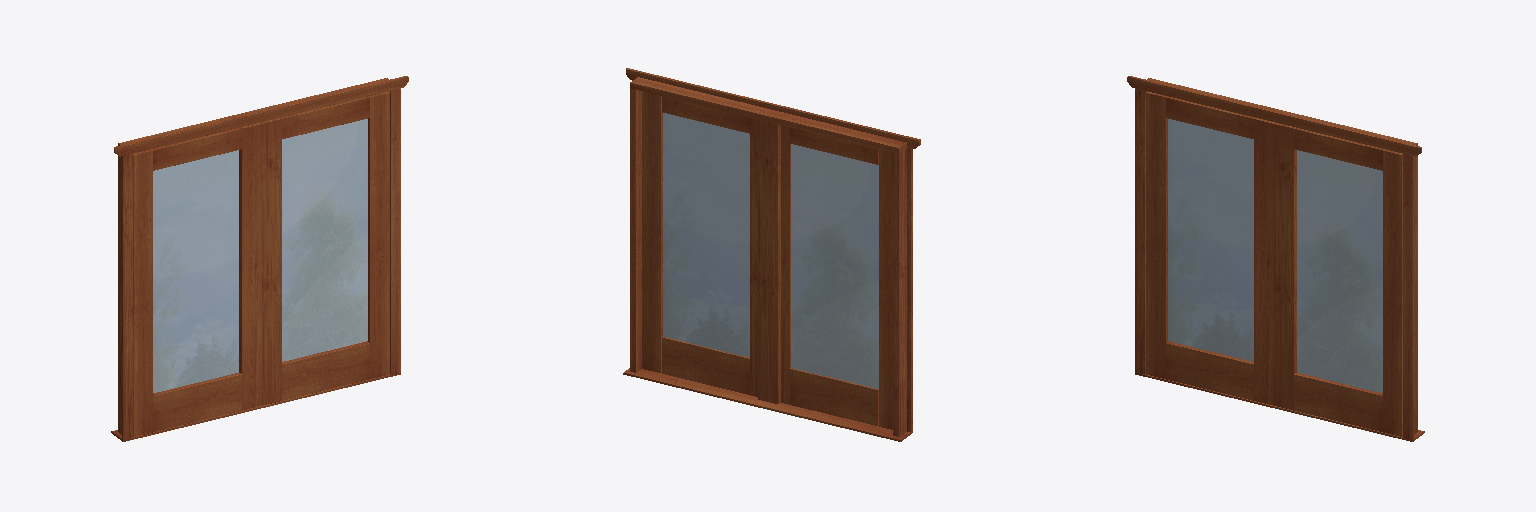
The picture shows the model from 3 angles: view 1: azimuth 30°, elevation 25°; view 2: azimuth 150°, elevation 25°; view 3: azimuth 330°, elevation 25°; orthographic projection.
Visible parts, largest first — view 1: glass, glass001, door_right, door_left001, door_right001, door_left, door_bottom, door_bottom001, trim_top, trim_right, trim_left, door_top (+4 smaller); view 2: glass, glass001, door_right002, door_left001, box_left, door_left, box_top, box_right, door_bottom, door_bottom001, door_right, threshold (+5 smaller); view 3: glass001, glass, door_right001, door_left, door_right, door_left001, door_bottom001, door_bottom, trim_top, trim_left, trim_right, door_top001 (+4 smaller).
Boxes of the visible parts, x1=… form: glass: x1=153, y1=150, x2=238, y2=392; glass001: x1=282, y1=119, x2=367, y2=361; door_right: x1=239, y1=123, x2=261, y2=410; door_left001: x1=368, y1=91, x2=389, y2=378; door_right001: x1=261, y1=118, x2=281, y2=405; door_left: x1=133, y1=149, x2=152, y2=436; door_bottom: x1=153, y1=373, x2=241, y2=431; door_bottom001: x1=282, y1=341, x2=369, y2=400; trim_top: x1=114, y1=76, x2=408, y2=156; trim_right: x1=390, y1=88, x2=400, y2=374; trim_left: x1=122, y1=154, x2=132, y2=439; door_top: x1=152, y1=128, x2=241, y2=170; glass: x1=791, y1=144, x2=878, y2=388; glass001: x1=663, y1=113, x2=749, y2=357; door_right002: x1=758, y1=120, x2=780, y2=403; door_left001: x1=642, y1=91, x2=662, y2=373; box_left: x1=893, y1=149, x2=906, y2=436; door_left: x1=879, y1=149, x2=892, y2=429; box_top: x1=630, y1=77, x2=906, y2=153; box_right: x1=630, y1=89, x2=641, y2=372; door_bottom: x1=790, y1=368, x2=878, y2=426; door_bottom001: x1=662, y1=337, x2=749, y2=394; door_right: x1=781, y1=125, x2=790, y2=404; threshold: x1=623, y1=368, x2=912, y2=441; glass001: x1=1297, y1=150, x2=1382, y2=392; glass: x1=1168, y1=119, x2=1253, y2=361; door_right001: x1=1274, y1=123, x2=1296, y2=410; door_left: x1=1146, y1=91, x2=1167, y2=378; door_right: x1=1254, y1=118, x2=1274, y2=405; door_left001: x1=1383, y1=149, x2=1402, y2=436; door_bottom001: x1=1294, y1=373, x2=1382, y2=431; door_bottom: x1=1166, y1=341, x2=1253, y2=400; trim_top: x1=1127, y1=76, x2=1421, y2=156; trim_left: x1=1135, y1=88, x2=1145, y2=374; trim_right: x1=1403, y1=154, x2=1413, y2=439; door_top001: x1=1294, y1=128, x2=1383, y2=170.
Bounding box in the file's own units: 77.81 × 75 × 5.5.
Materials: 9 (9 with a texture image).